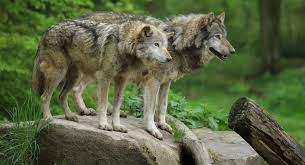wolf: (76, 15, 237, 108), (35, 21, 170, 122)
